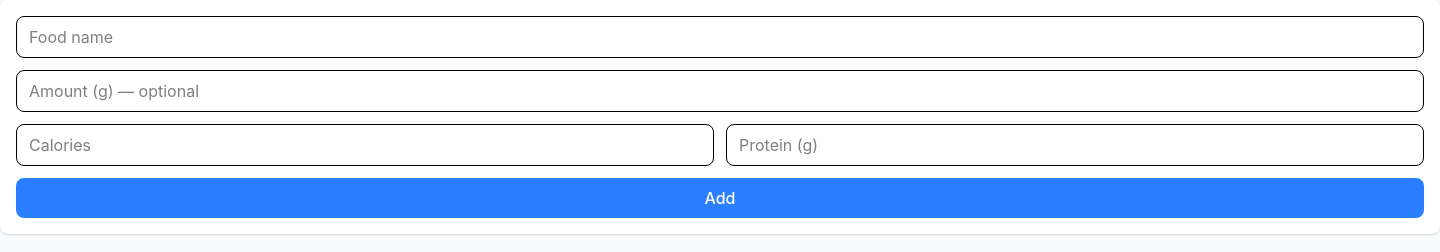
Test case: FoodEntryForm › clears fields after successful submit
The image size is (1440, 252).
Type "Chicken" into the field labelled "Food name".
click(720, 37); type("Chicken")  # box [16, 16, 1424, 58]
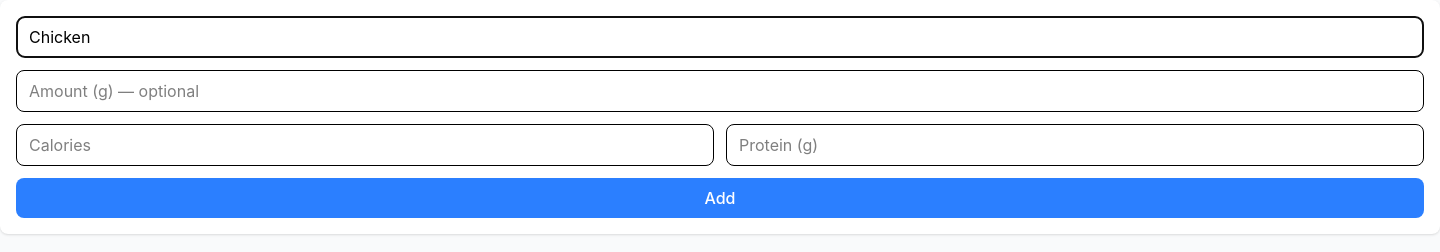
Type "150" into the number field labelled "Amount (g)".
click(720, 91); type("150")  # box [16, 70, 1424, 112]
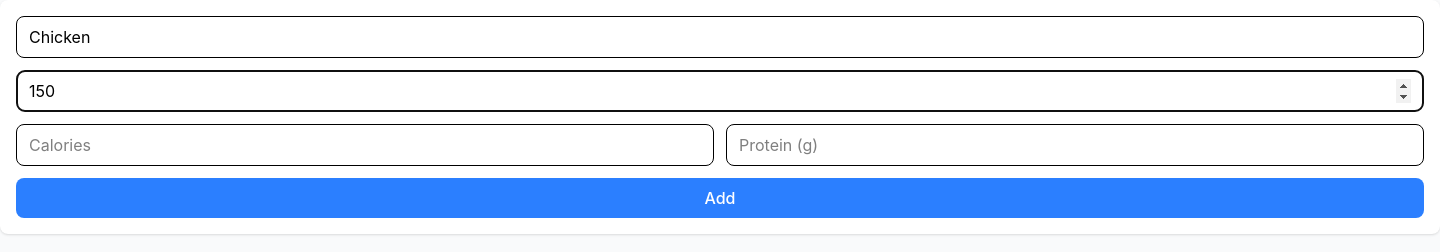
Type "280" into the number field labelled "Calories".
click(365, 145); type("280")  # box [16, 124, 714, 166]
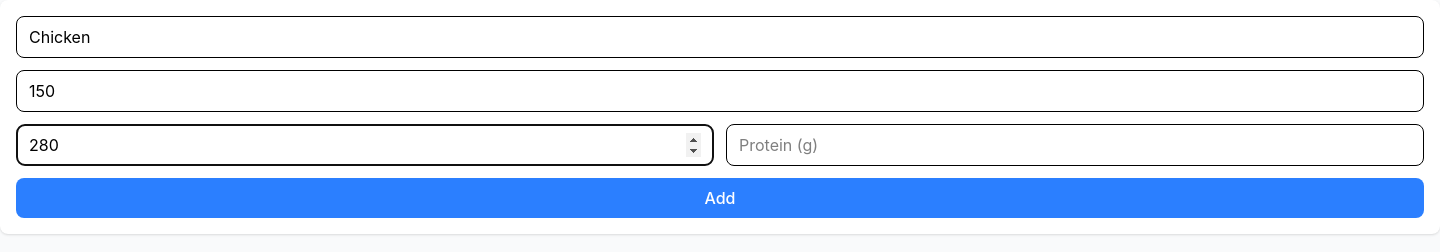
Type "52" into the number field labelled "Protein (g)".
click(1075, 145); type("52")  # box [726, 124, 1424, 166]
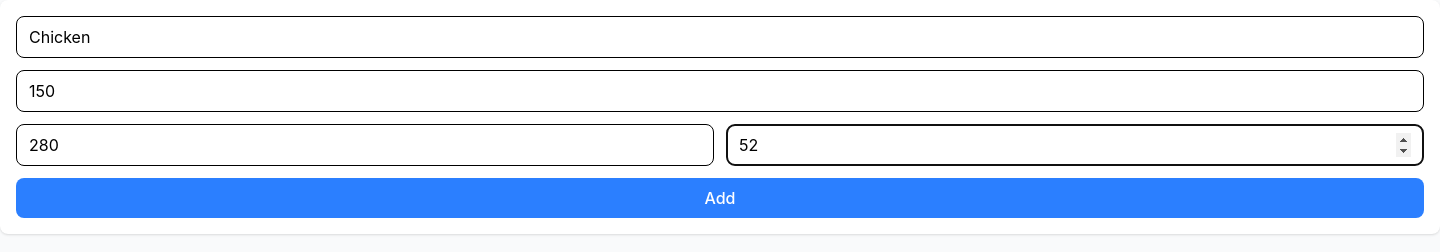
Click the button "Add".
click(720, 198)  # box [16, 178, 1424, 218]
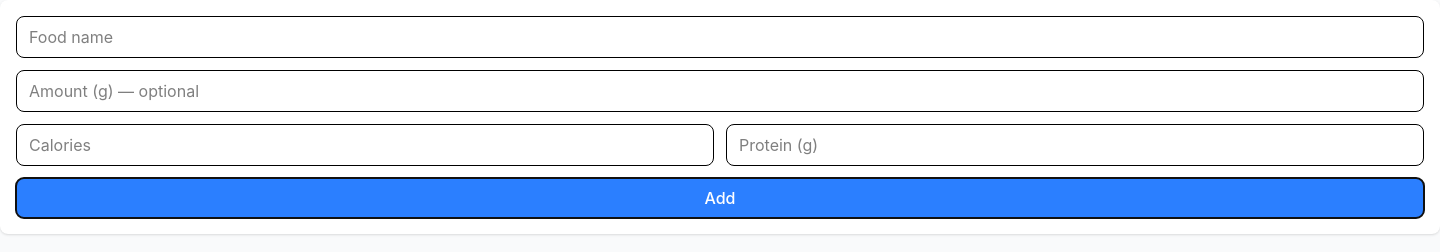
Expected: the field labelled "Food name" is empty, [16, 16, 1424, 58]
Expected: the number field labelled "Amount (g)" is not empty, [16, 70, 1424, 112]
Expected: the number field labelled "Calories" is not empty, [16, 124, 714, 166]
